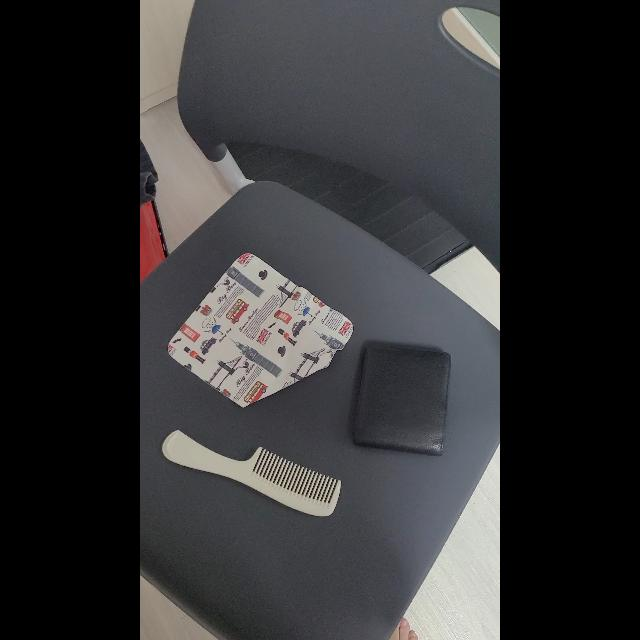COMB: (162, 430, 342, 518)
Glasses cleaning cloth: (167, 253, 353, 407)
WALLET: (352, 342, 452, 456)
